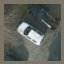car: (26, 5, 58, 30), (16, 21, 45, 45)
